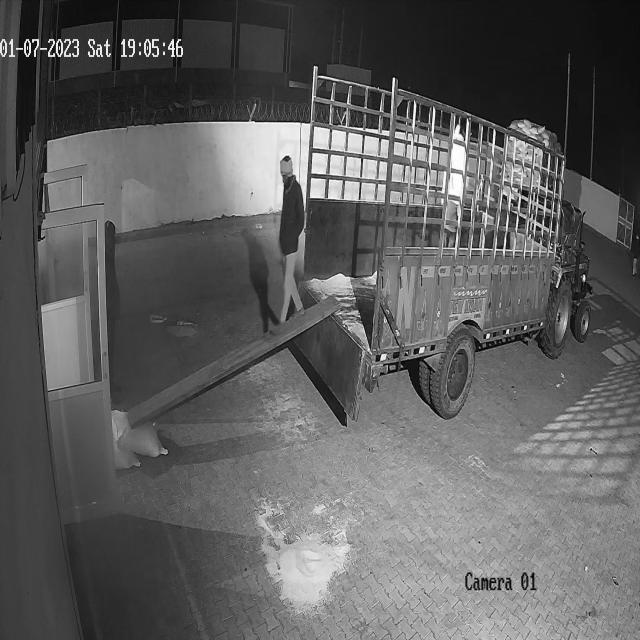sack: (112, 409, 167, 457)
